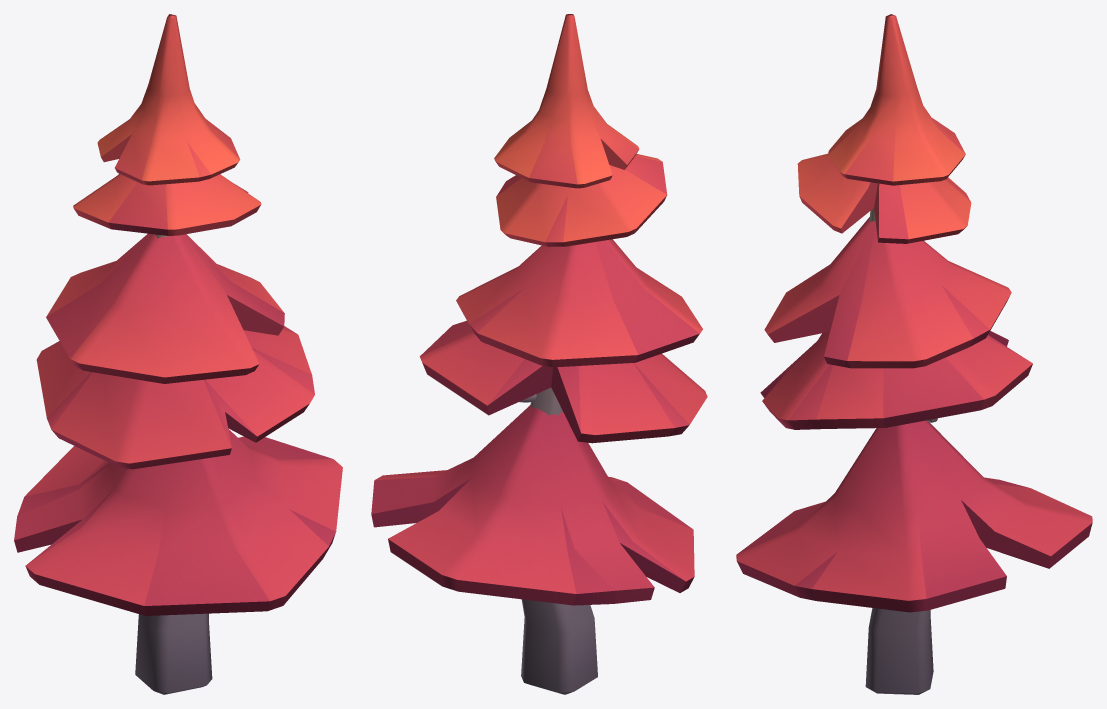
The model's file is tree-pine.glb.
3 renders of one model, left to right at view 1: azimuth 30°, elevation 25°; view 2: azimuth 150°, elevation 25°; view 3: azimuth 270°, elevation 25°, orthographic.
Visible parts, largest first — view 1: tree_pine_SC_04; view 2: tree_pine_SC_04; view 3: tree_pine_SC_04.
Part boxes in pixels (x1,y1,x2,y2): tree_pine_SC_04: (14, 14, 342, 694); tree_pine_SC_04: (371, 14, 707, 694); tree_pine_SC_04: (736, 14, 1092, 694).
Size of the model in its own units: 528 by 1086 by 526.
Materials: 1 (1 with a texture image).
